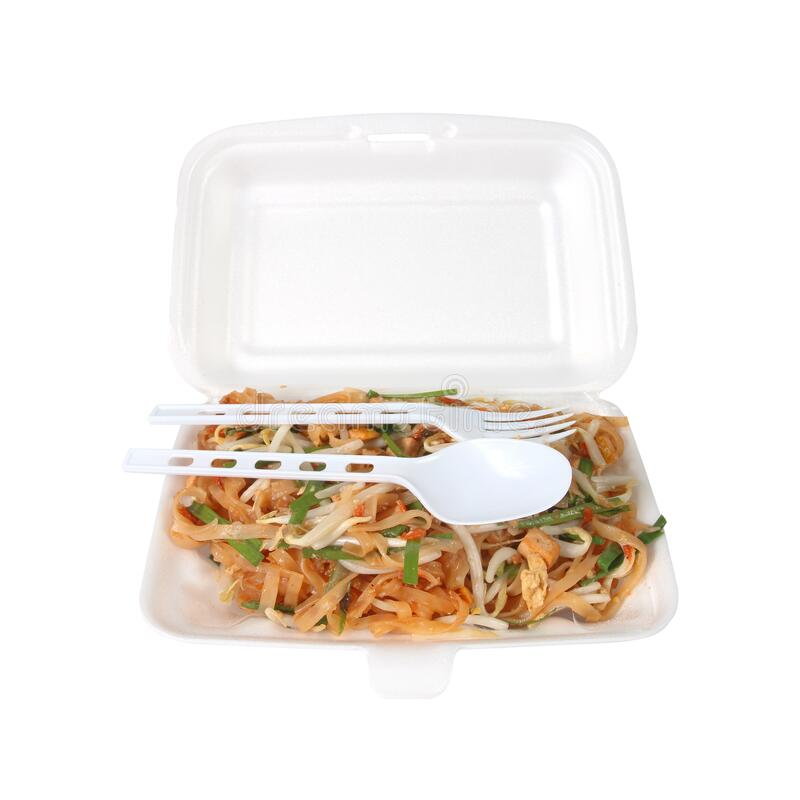Foam Box: (118, 100, 694, 705)
